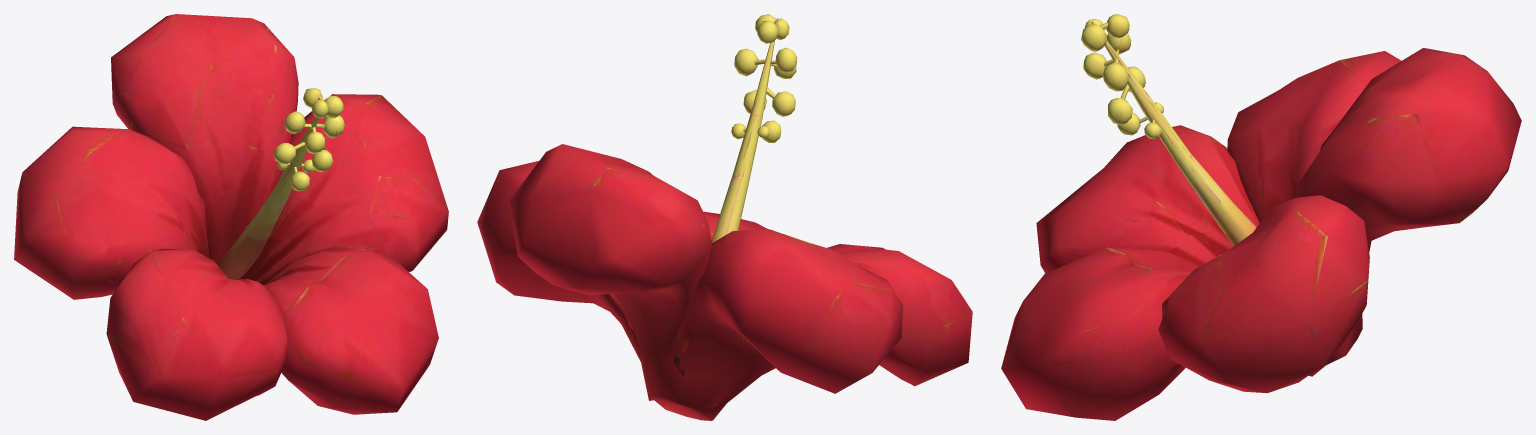
File: art_hibiscus.glb
The picture shows the model from 3 angles, left to right: view 1: azimuth 30°, elevation 25°; view 2: azimuth 150°, elevation 25°; view 3: azimuth 270°, elevation 25°; orthographic projection. The views are drawn at different scales.
Parts seen in each view (by area): view 1: Mesh_0; view 2: Mesh_0; view 3: Mesh_0.
Part boxes in pixels (box(x1,y1,x2,y2)): Mesh_0: box(14, 14, 448, 420); Mesh_0: box(477, 14, 972, 420); Mesh_0: box(1001, 14, 1521, 420).
Bounding box in the file's own units: 1 × 0.793 × 0.9805.
1 material, 1 textured.
